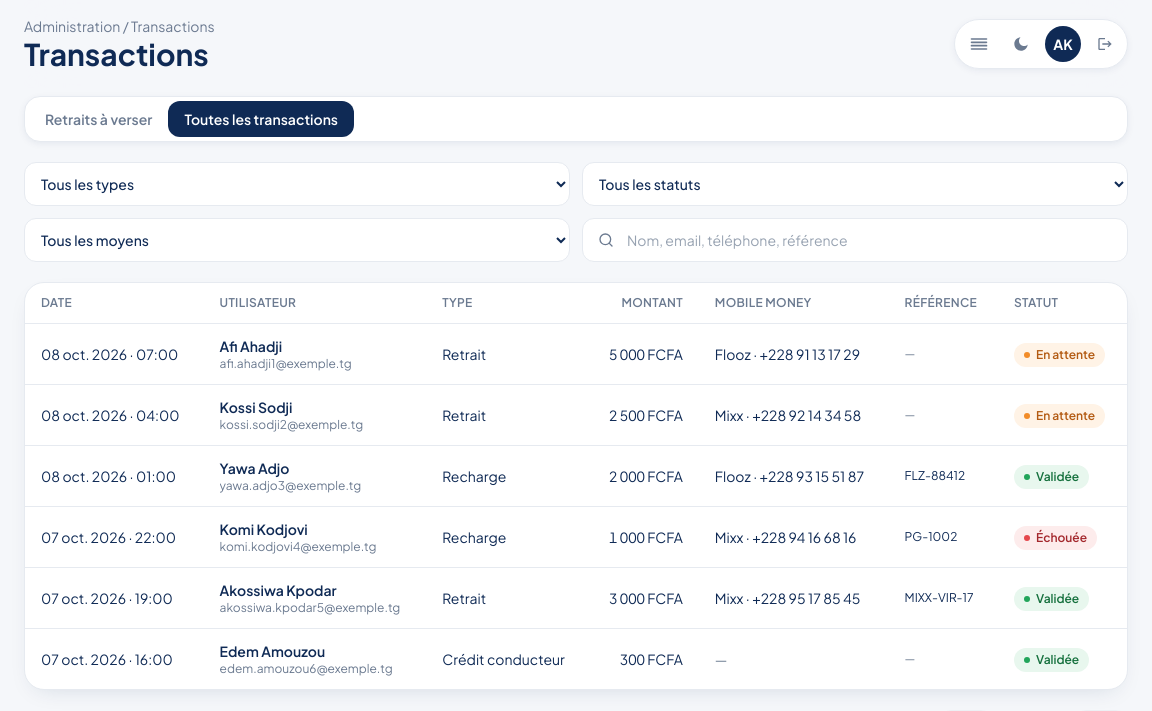
transactions et retraits à verser › liste toutes les transactions avec filtres et statut
Check: the text "FLZ-88412" is shown, box [905,468,965,483]
Step 1. Select "Recharge" in the 1st dropdown named "Type" → coordinates (297, 184), box [24,162,570,206]
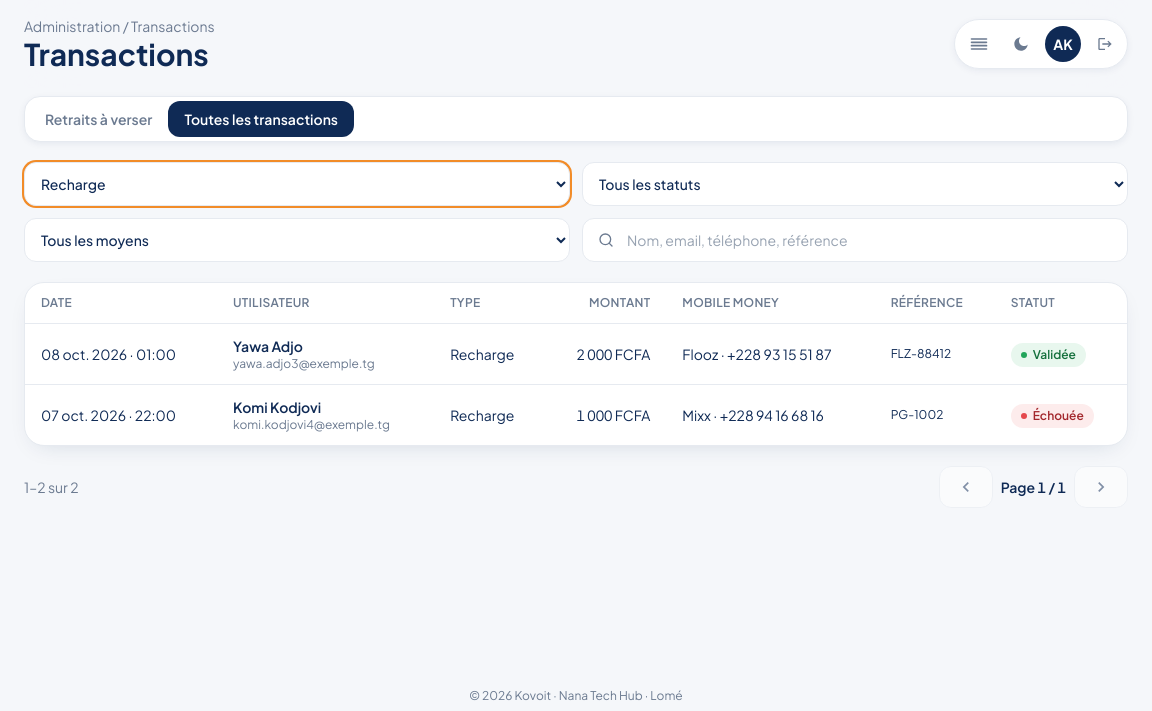
Check: the text "Recharge" is shown 2 times, box [434,324,545,384]; [434,384,545,445]
